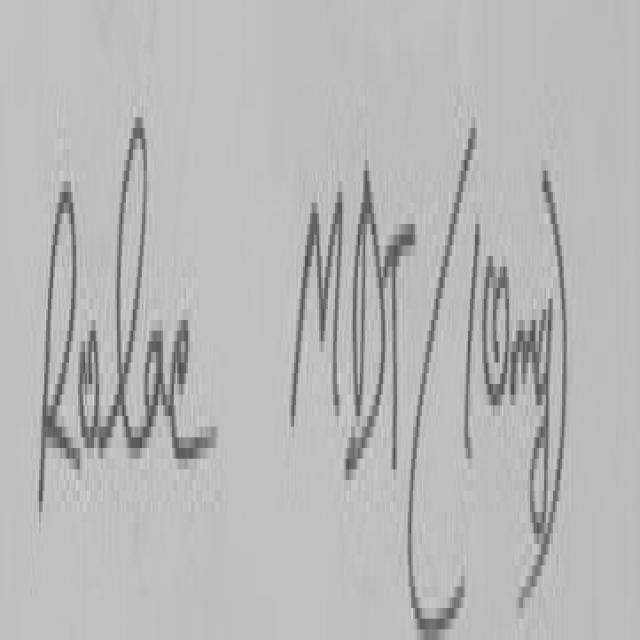0: (484, 248, 511, 400)
1: (462, 224, 480, 475)
D: (347, 160, 386, 492)
M: (294, 197, 344, 421)
R: (41, 192, 80, 507)
T: (383, 224, 418, 482)
a: (145, 319, 170, 431)
c: (171, 325, 216, 468)
g: (532, 304, 553, 533)
l: (103, 117, 147, 465)
m: (509, 302, 537, 410)
o: (78, 320, 99, 443)
